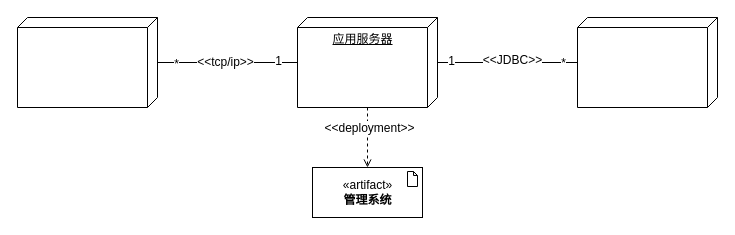
Some shapes in this 735 by 235 pixel diagram are drawn without their labels. The centre of each missing label's shape, as x and y in pixels:
<<device>> 客户端: (x=87, y=62)
<<device>> 数据库服务器: (x=647, y=62)
